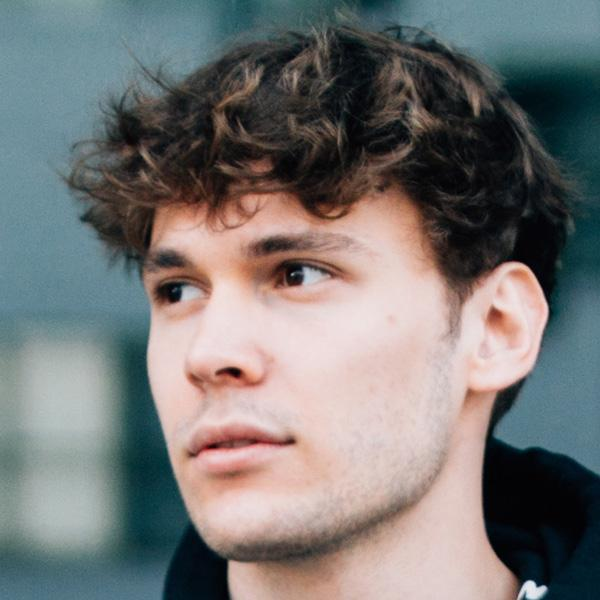Eyes: (260, 250, 351, 304), (145, 268, 219, 318)
